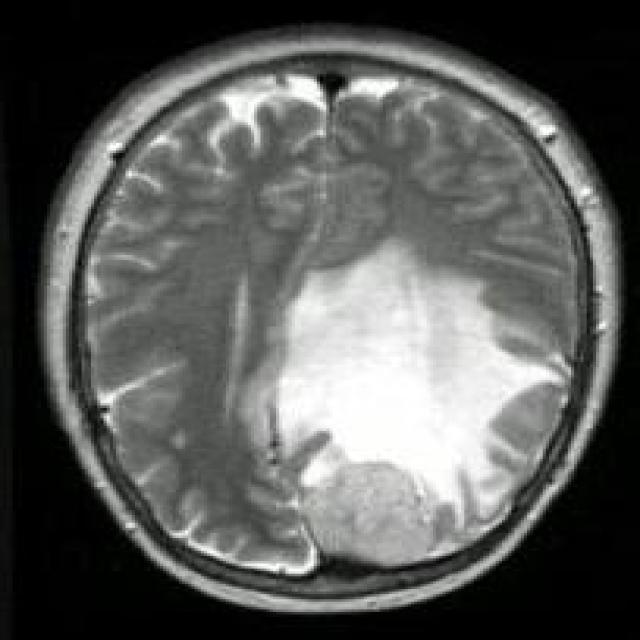brain tumor: (276, 242, 568, 569)
